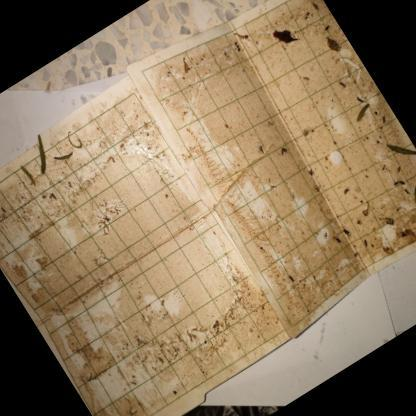prays_oleae: (329, 231, 347, 252), (253, 140, 270, 160), (385, 172, 402, 191), (284, 270, 300, 288), (46, 188, 62, 205), (274, 141, 290, 158), (351, 212, 365, 231), (338, 222, 354, 238), (391, 160, 405, 178), (0, 200, 12, 221), (308, 180, 324, 195), (335, 76, 349, 92), (304, 165, 318, 180), (309, 0, 323, 14), (353, 91, 366, 106), (360, 235, 373, 250), (401, 184, 413, 200), (302, 6, 314, 20), (378, 112, 390, 124), (258, 244, 268, 255), (396, 174, 405, 186), (301, 11, 309, 21), (40, 192, 48, 200)
